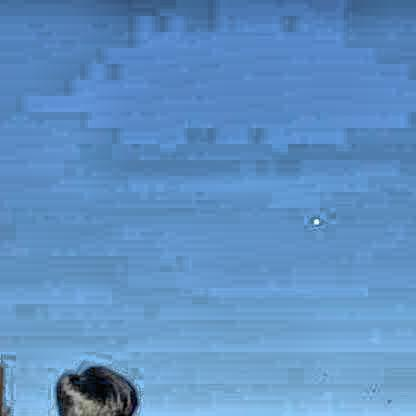golfball: (308, 213, 320, 223)
